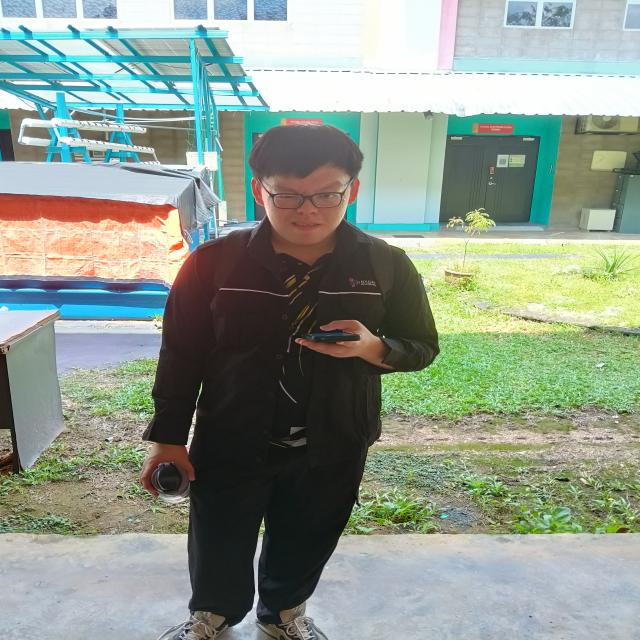person_with_labcoat: (141, 125, 439, 640)
